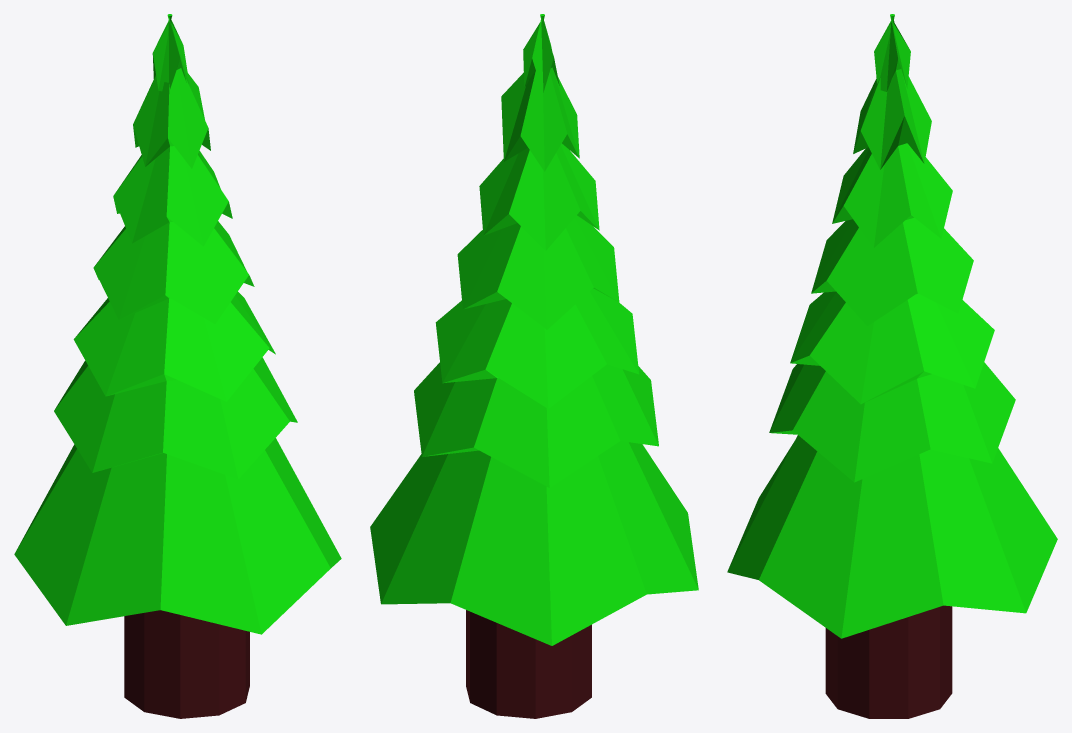
Rendered from tree.fbx.
3 renders of one model, left to right at view 1: azimuth 30°, elevation 25°; view 2: azimuth 150°, elevation 25°; view 3: azimuth 270°, elevation 25°, orthographic.
Visible parts, largest first — view 1: Cylinder, Cylinder.001; view 2: Cylinder, Cylinder.001; view 3: Cylinder, Cylinder.001.
Boxes of the visible parts, x1=… form: Cylinder: x1=14, y1=14, x2=341, y2=634; Cylinder.001: x1=124, y1=610, x2=249, y2=718; Cylinder: x1=370, y1=14, x2=698, y2=645; Cylinder.001: x1=466, y1=610, x2=591, y2=718; Cylinder: x1=727, y1=14, x2=1057, y2=638; Cylinder.001: x1=825, y1=605, x2=952, y2=718.
Size of the model in its own units: 386 by 368 by 865.
